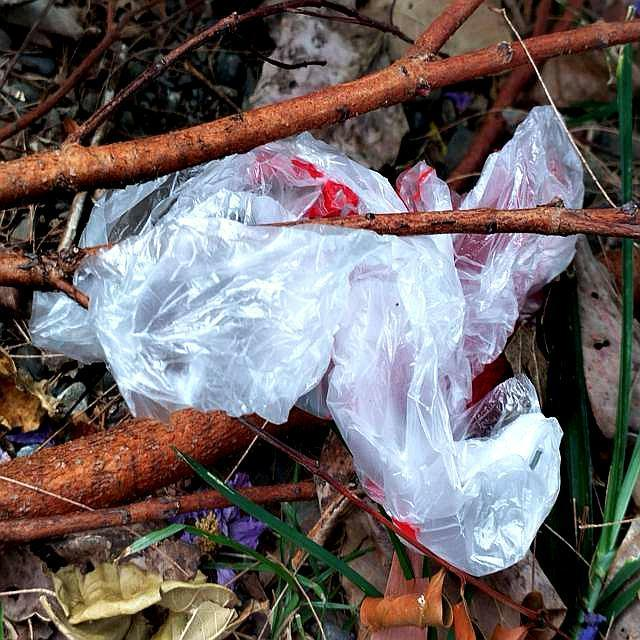Non-biodegradable: (45, 163, 581, 569)
